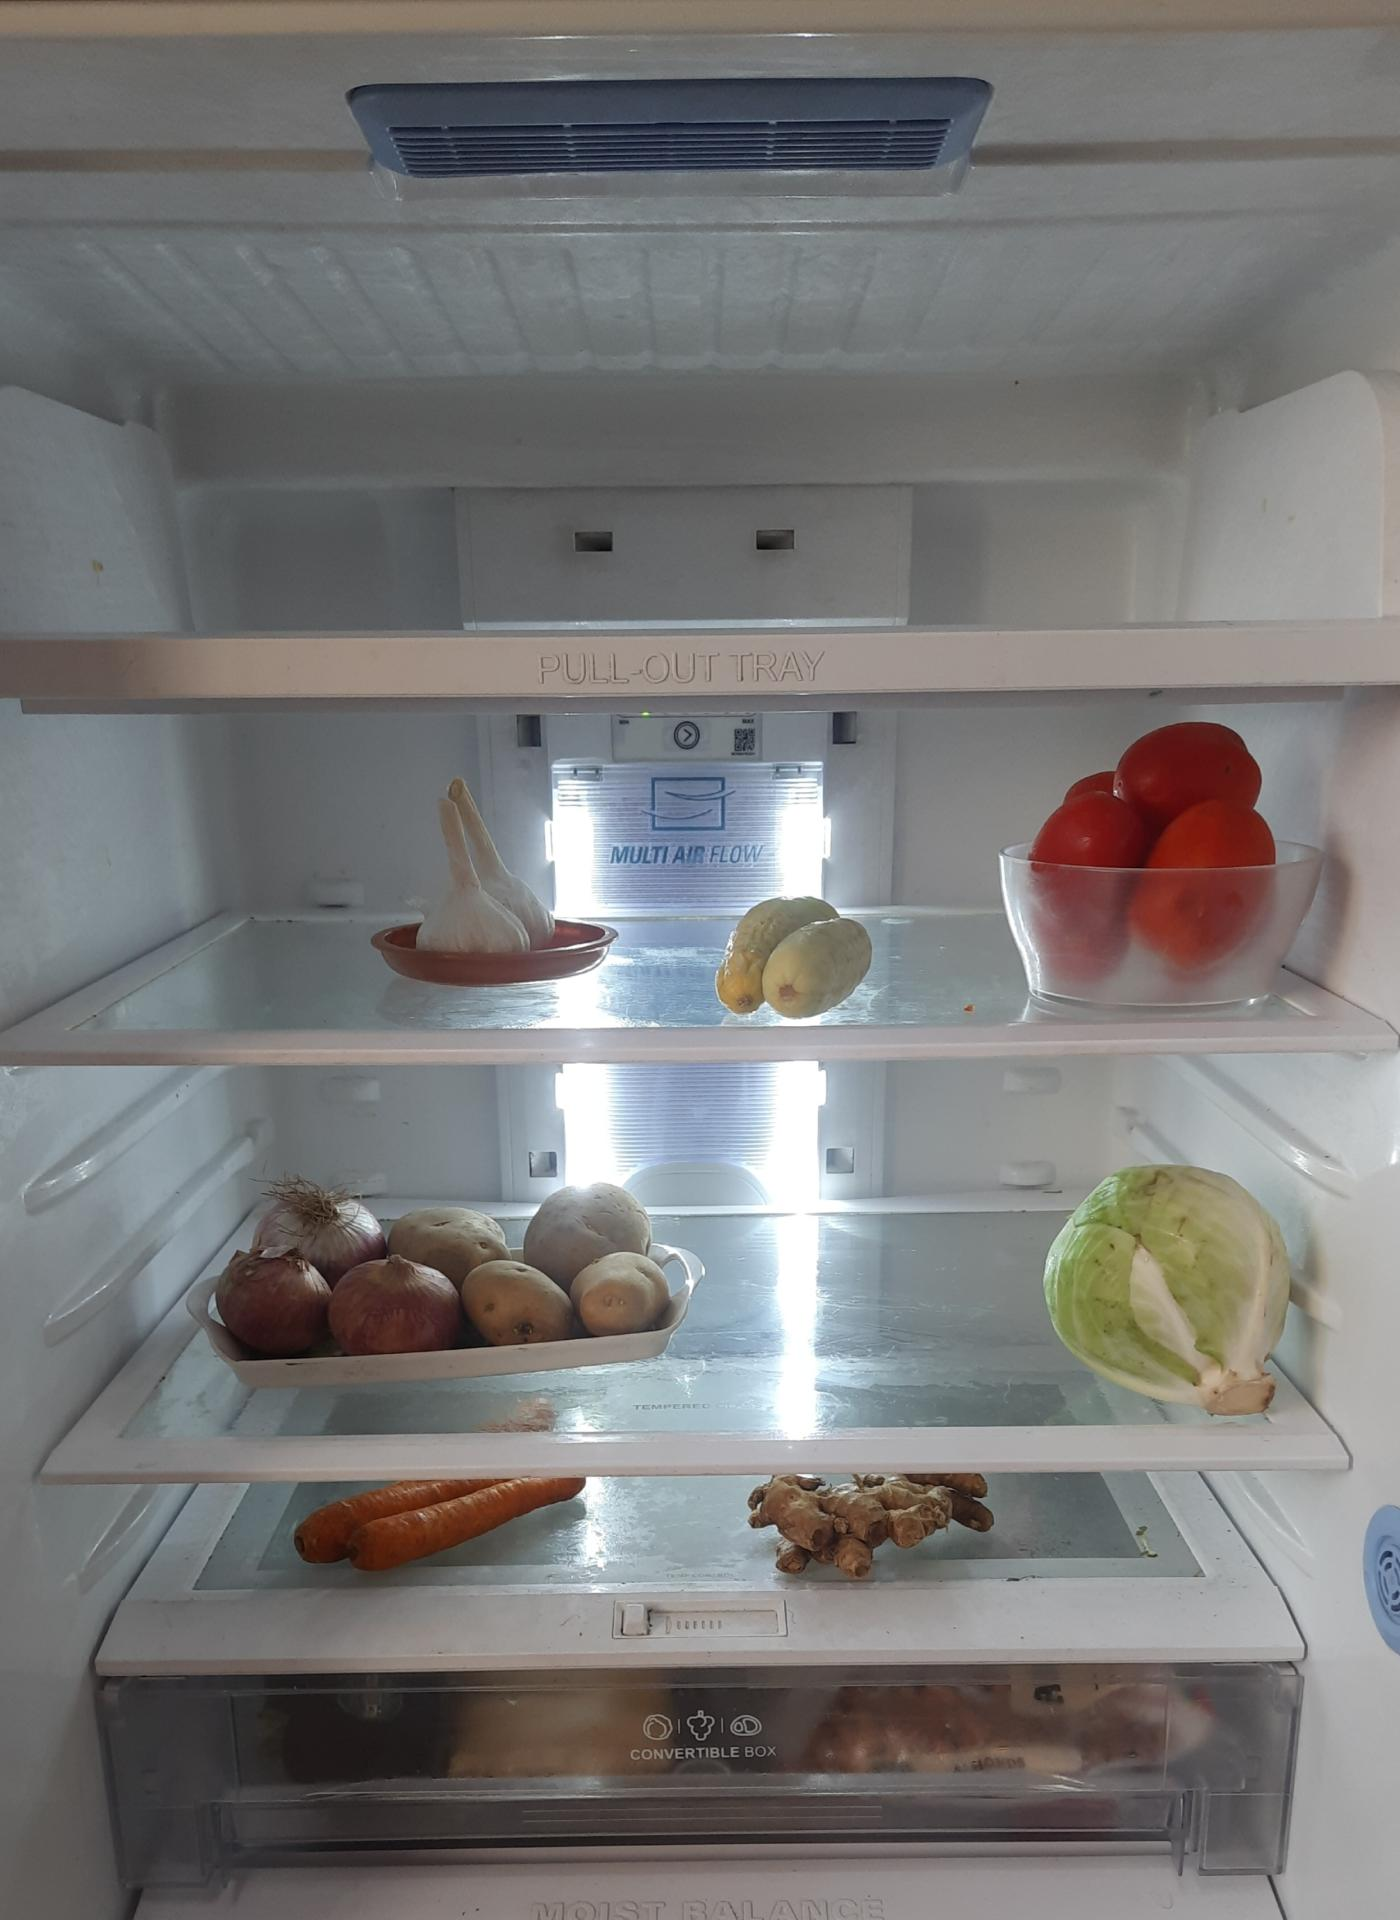cabbage: (1047, 1158, 1294, 1406)
carrots: (280, 1456, 592, 1559)
cucumber: (710, 890, 877, 1024)
garlic: (416, 769, 565, 963)
ginger: (759, 1465, 1000, 1576)
onion: (225, 1185, 459, 1357)
potato: (388, 1185, 669, 1346)
tomato: (1033, 719, 1291, 987)
